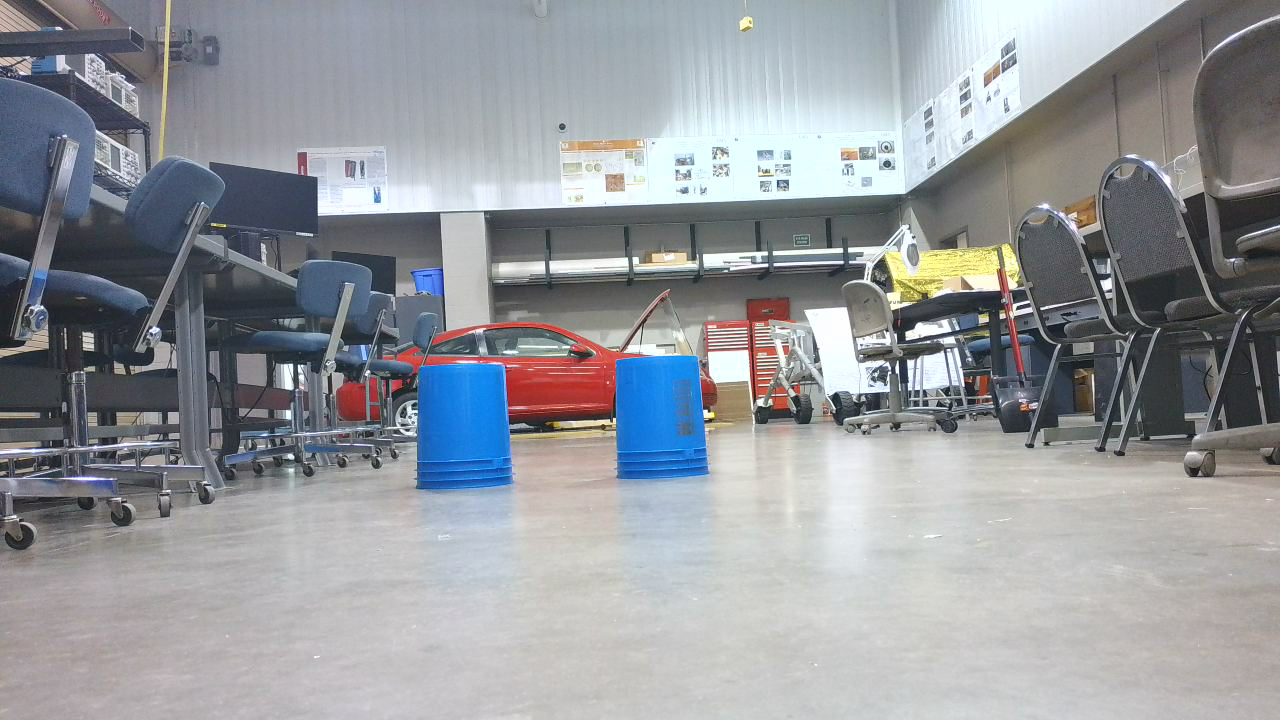blue_bucket: (416, 365, 521, 501), (614, 357, 718, 489)
